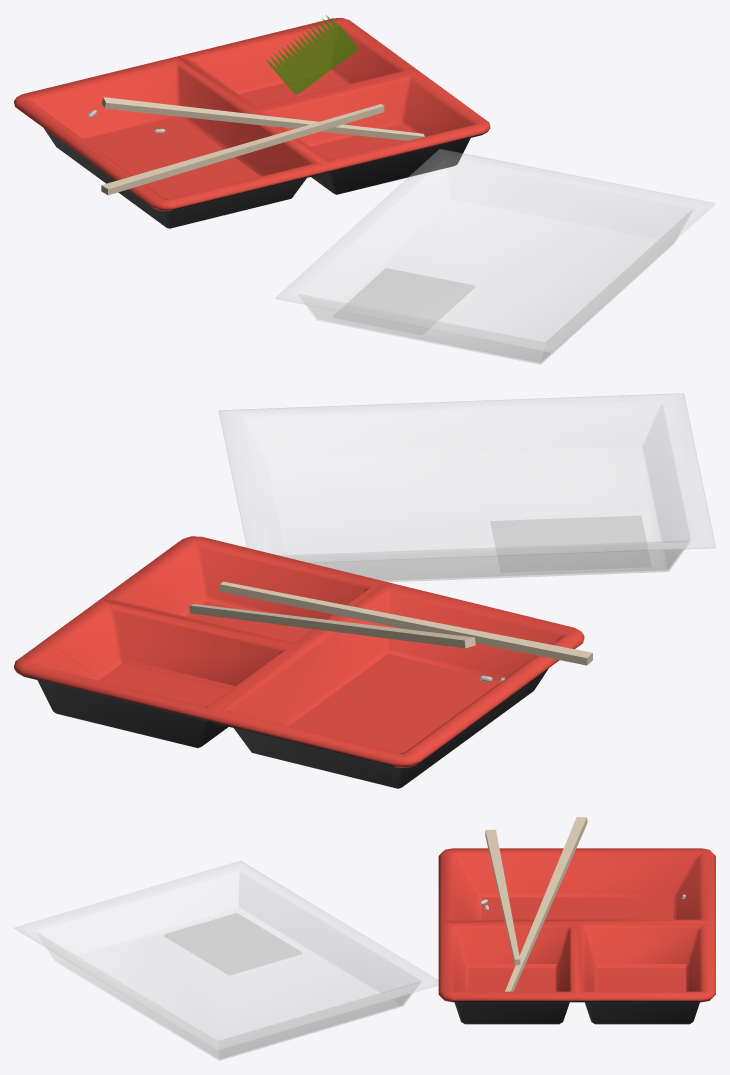
The model's file is empty-bento.glb.
The picture shows the model from 3 angles, top to bottom: view 1: azimuth 30°, elevation 25°; view 2: azimuth 150°, elevation 25°; view 3: azimuth 270°, elevation 25°; orthographic projection. The views are drawn at different scales.
Parts seen in each view (by area): view 1: Plane.002, Plane.001, Grid, Cube.004, Cube.005; view 2: Plane.002, Plane.001, Cube.004, Cube.005; view 3: Plane.002, Plane.001, Cube.005, Cube.004.
Boxes of the visible parts, bbox=[...] form: Plane.002: bbox=[275, 149, 715, 364]; Plane.001: bbox=[14, 18, 490, 228]; Grid: bbox=[265, 15, 358, 94]; Cube.004: bbox=[101, 104, 384, 195]; Cube.005: bbox=[101, 97, 424, 140]; Plane.002: bbox=[219, 393, 715, 581]; Plane.001: bbox=[14, 536, 584, 788]; Cube.004: bbox=[220, 581, 592, 665]; Cube.005: bbox=[189, 604, 475, 648]; Plane.002: bbox=[14, 861, 438, 1060]; Plane.001: bbox=[438, 848, 715, 1024]; Cube.005: bbox=[505, 817, 587, 991]; Cube.004: bbox=[485, 829, 520, 965].
Size of the model in its own units: 0.3136 by 0.0583 by 0.4554.
